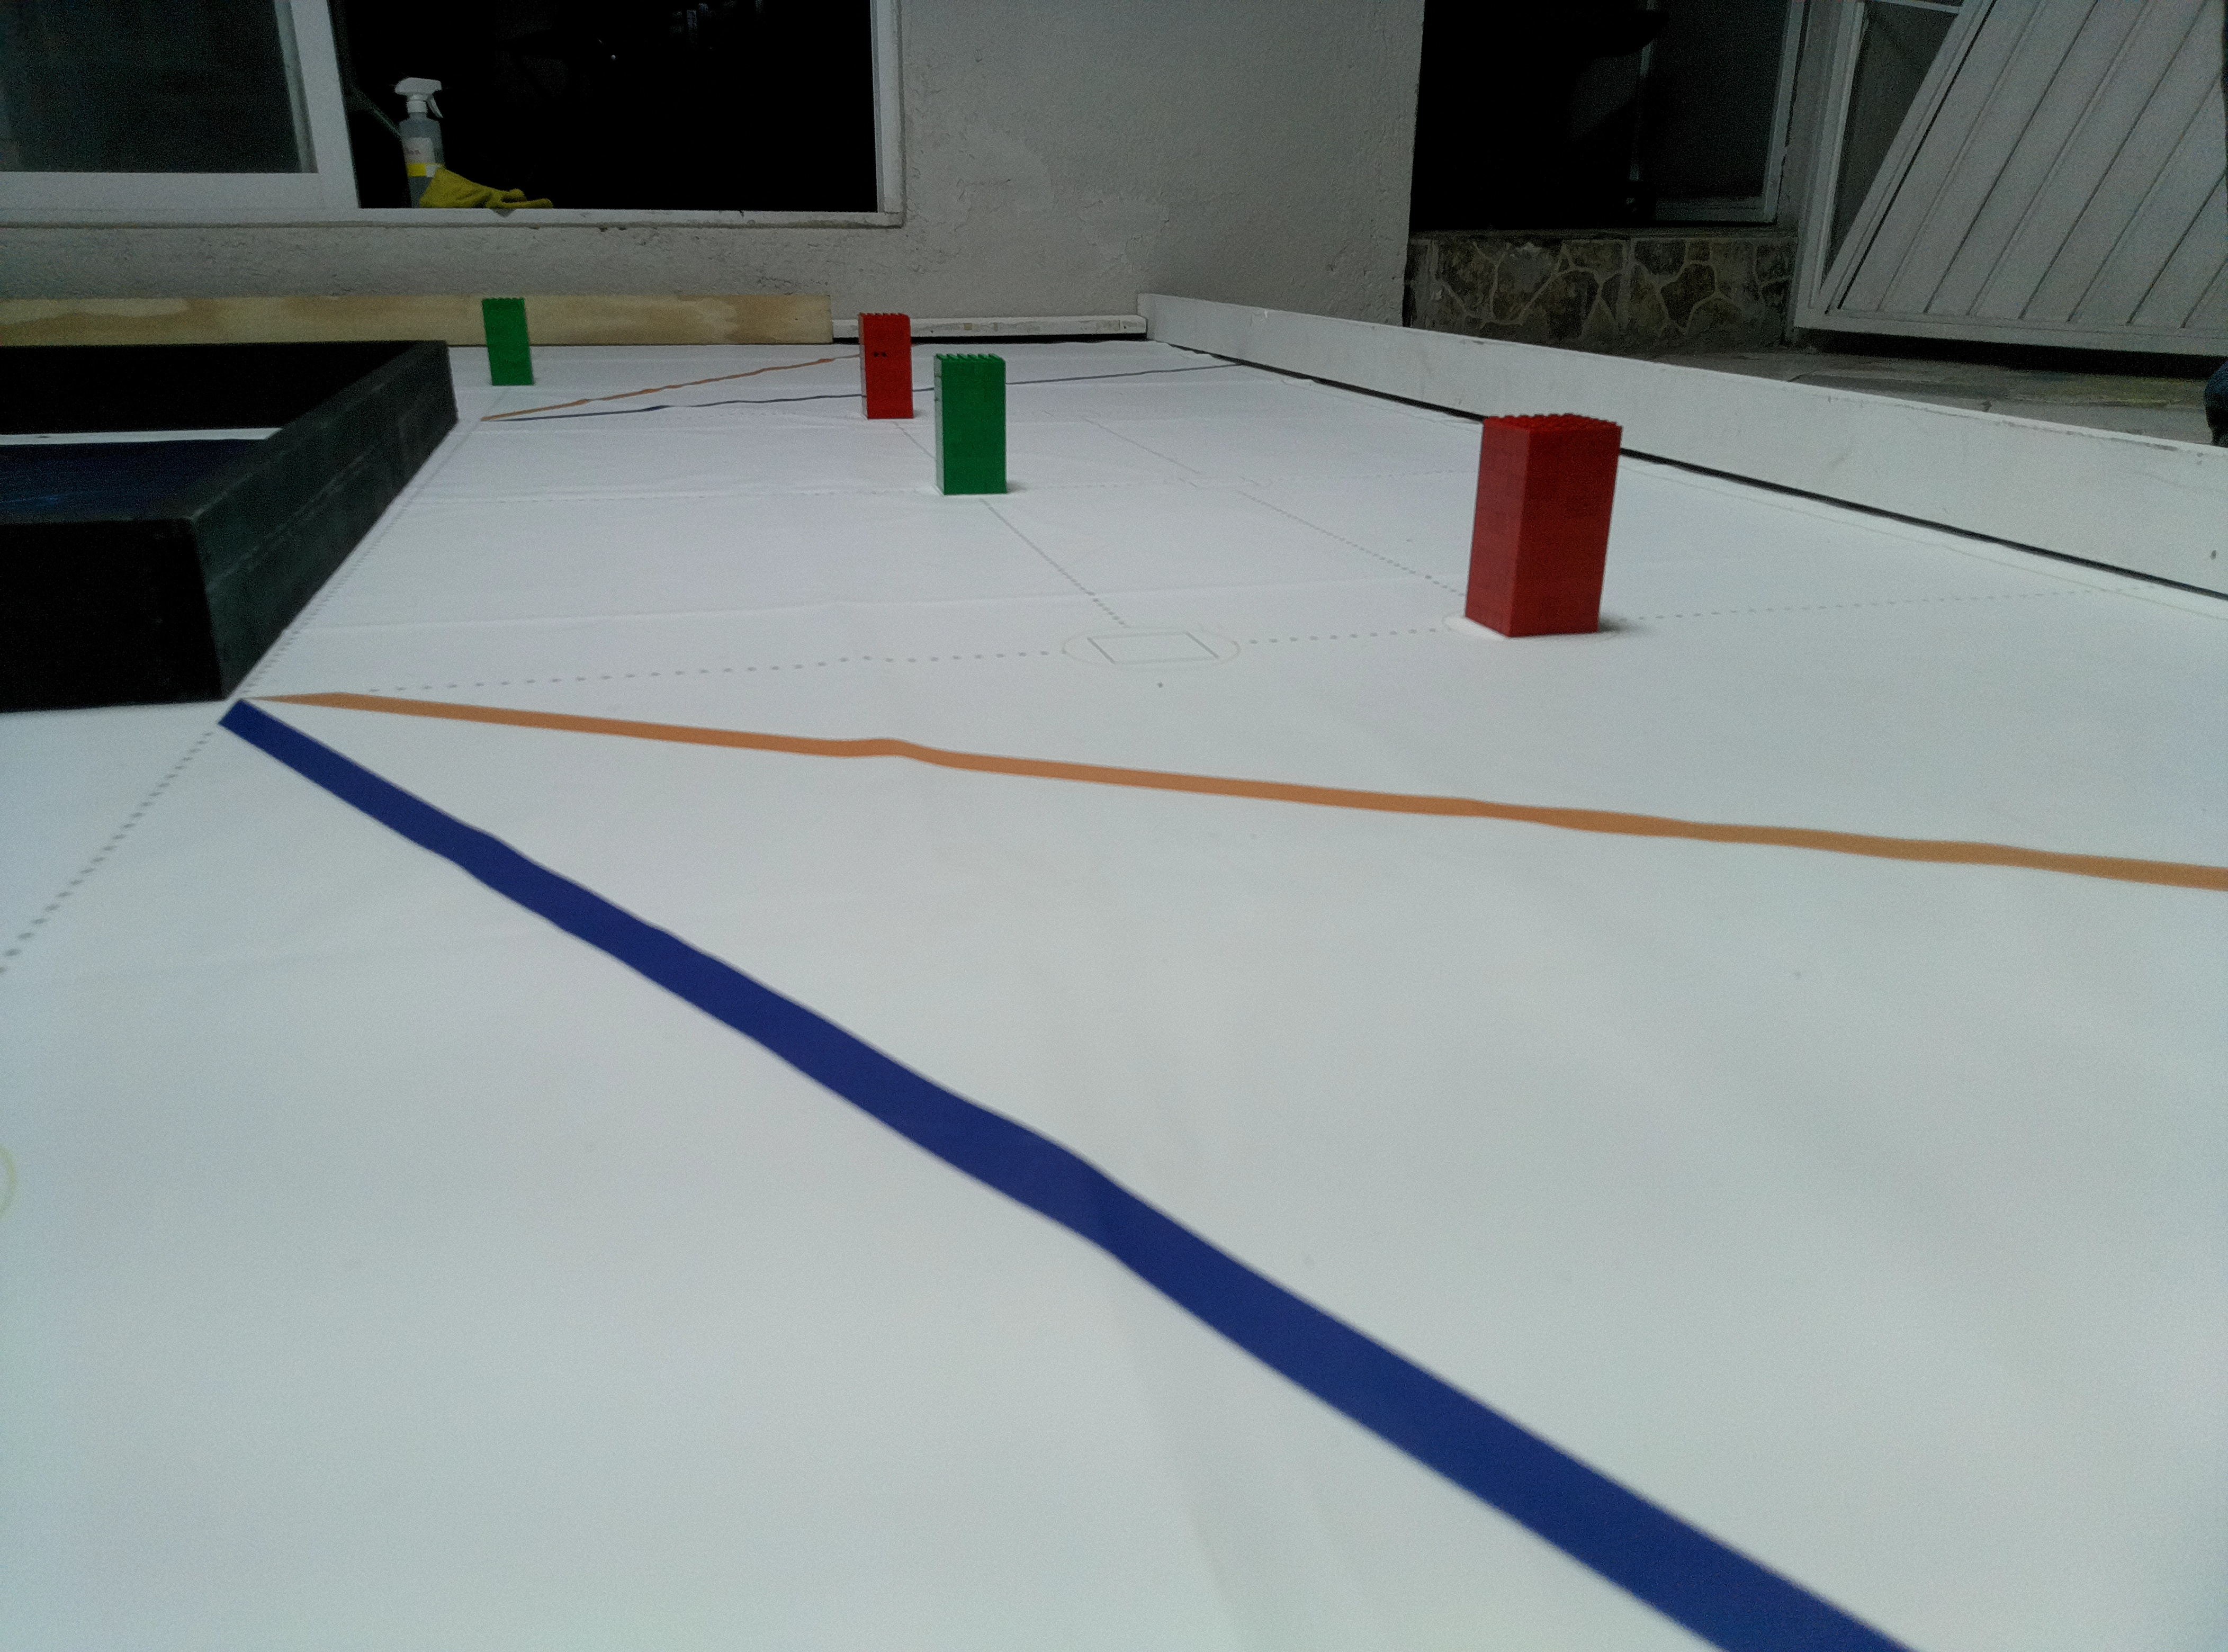greenbox: (930, 351, 1015, 500), (481, 297, 538, 390)
redbox: (1466, 411, 1621, 633), (859, 307, 913, 423)
